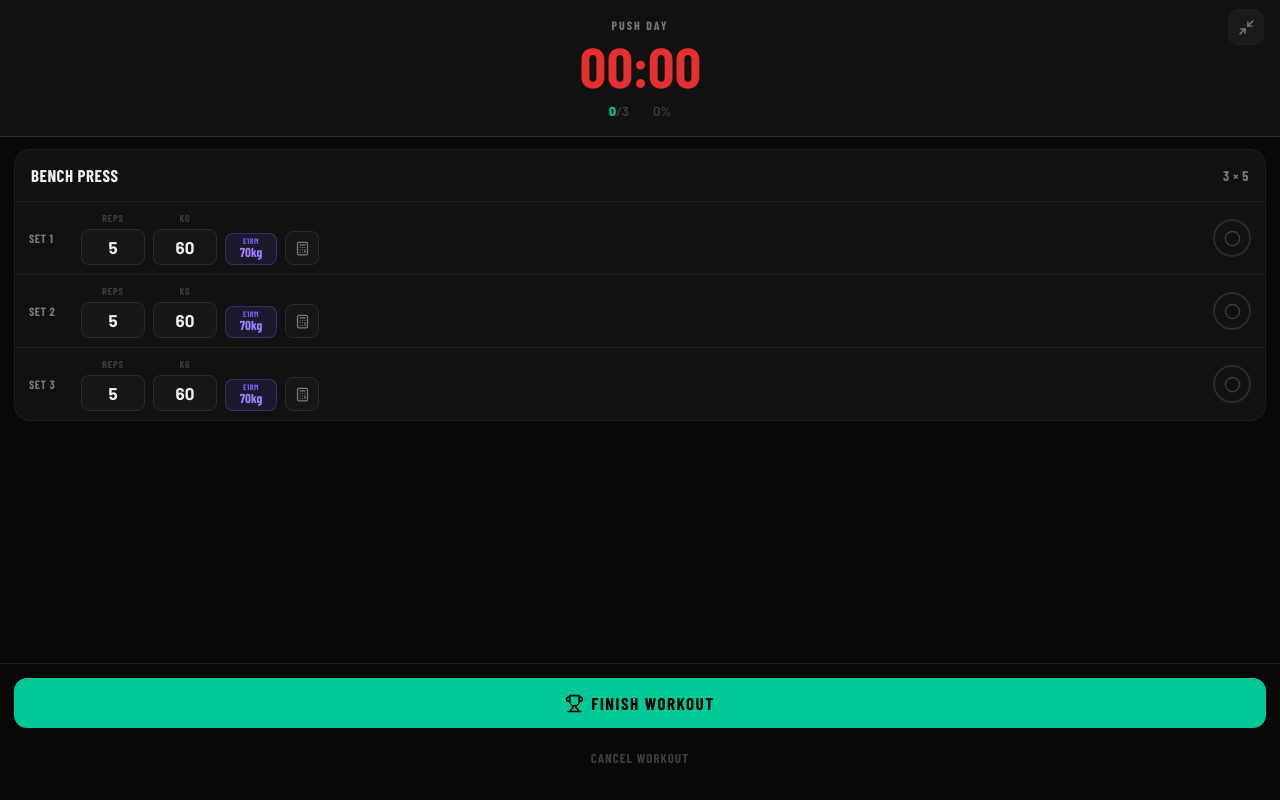
Test: RunWorkout rest timer › skipping rest clears the countdown and cancels the queued notification
The width and height of the screenshot is (1280, 800).
Click the 1st button with class "set-done-btn": {"x": 1232, "y": 238} [1213, 219, 1251, 257]
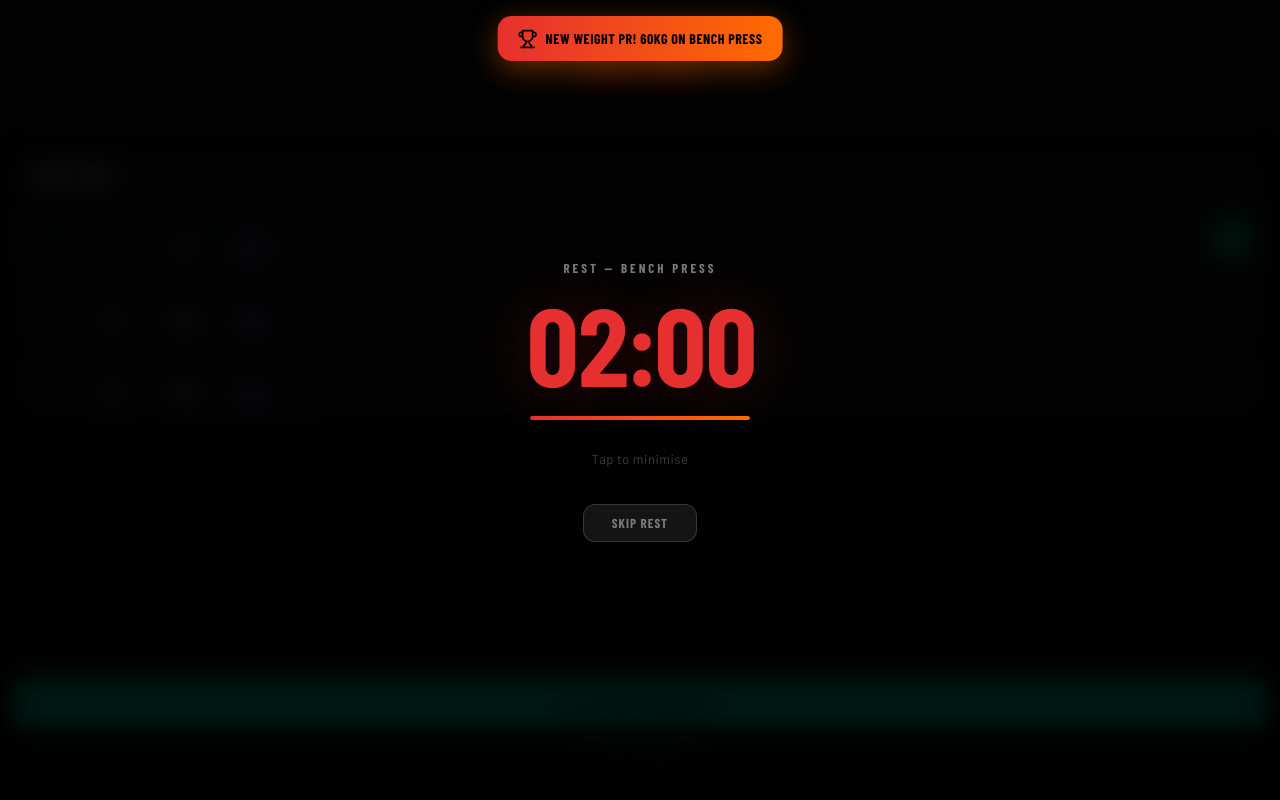
Click the button with class "rest-timer-skip-btn": {"x": 640, "y": 522} [583, 504, 697, 542]
Wait 120000 ms
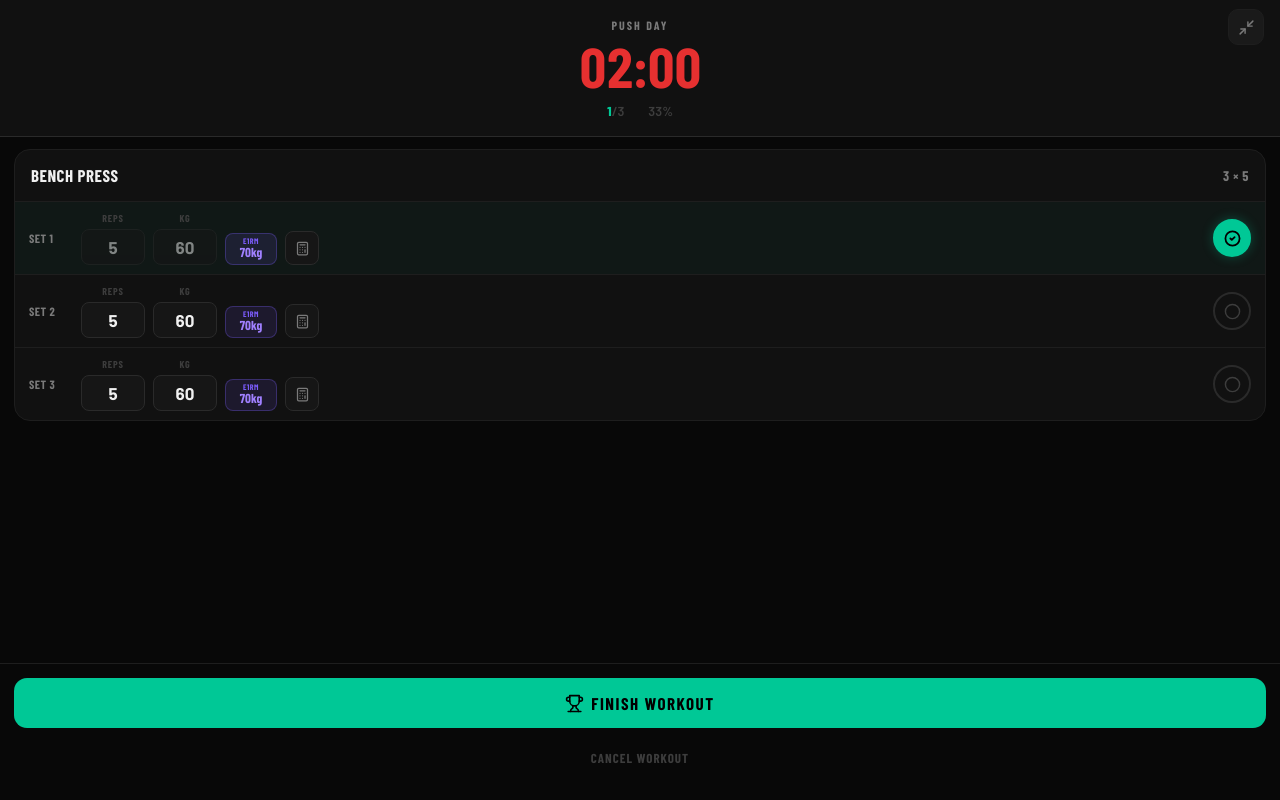
Check: the text with class "rest-timer-value" is gone
